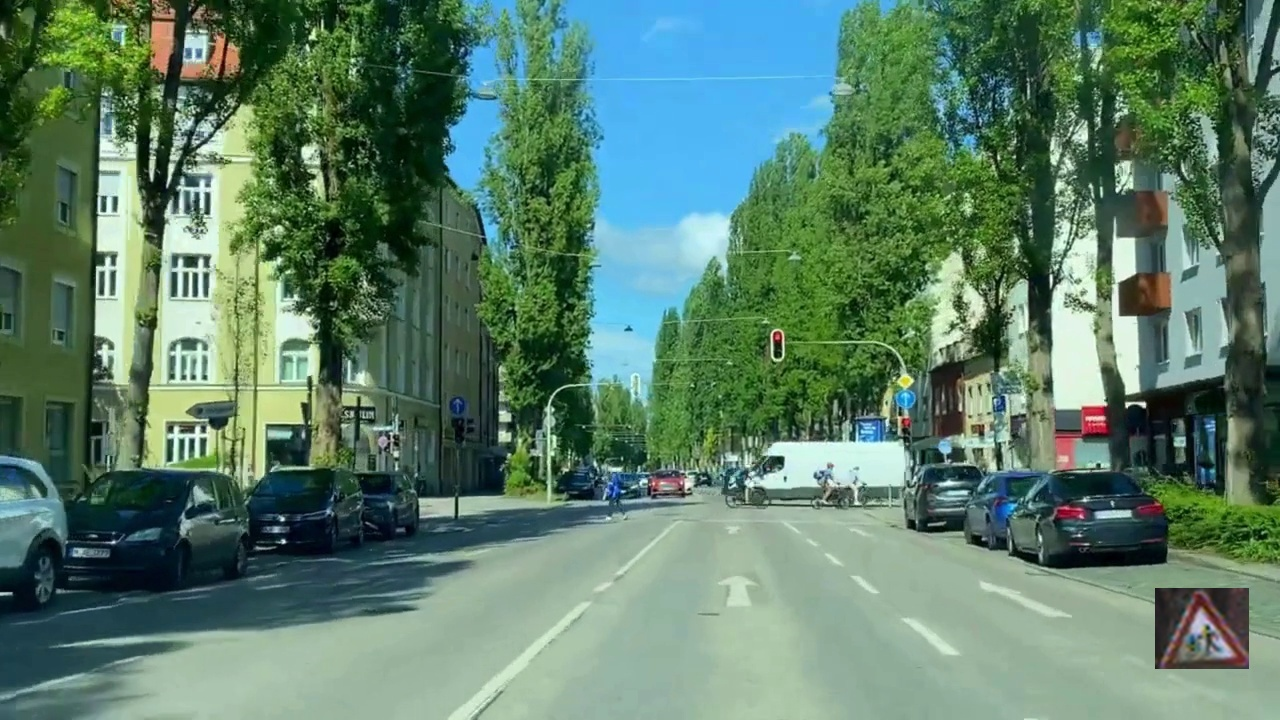Children: (1155, 588, 1249, 669)
